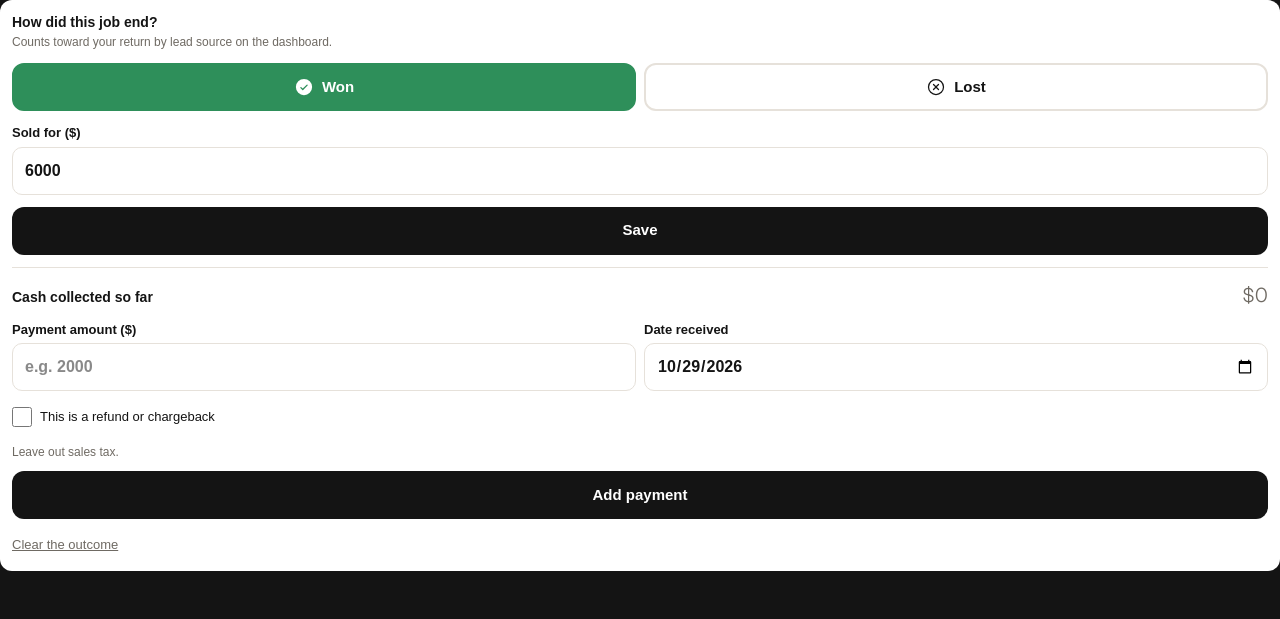
Test: JobOutcomePanel › says plainly when the server refused it
Type "100" into the field labelled "Payment amount ($)" at (324, 367), box x1=12 y1=343 x2=636 y2=391
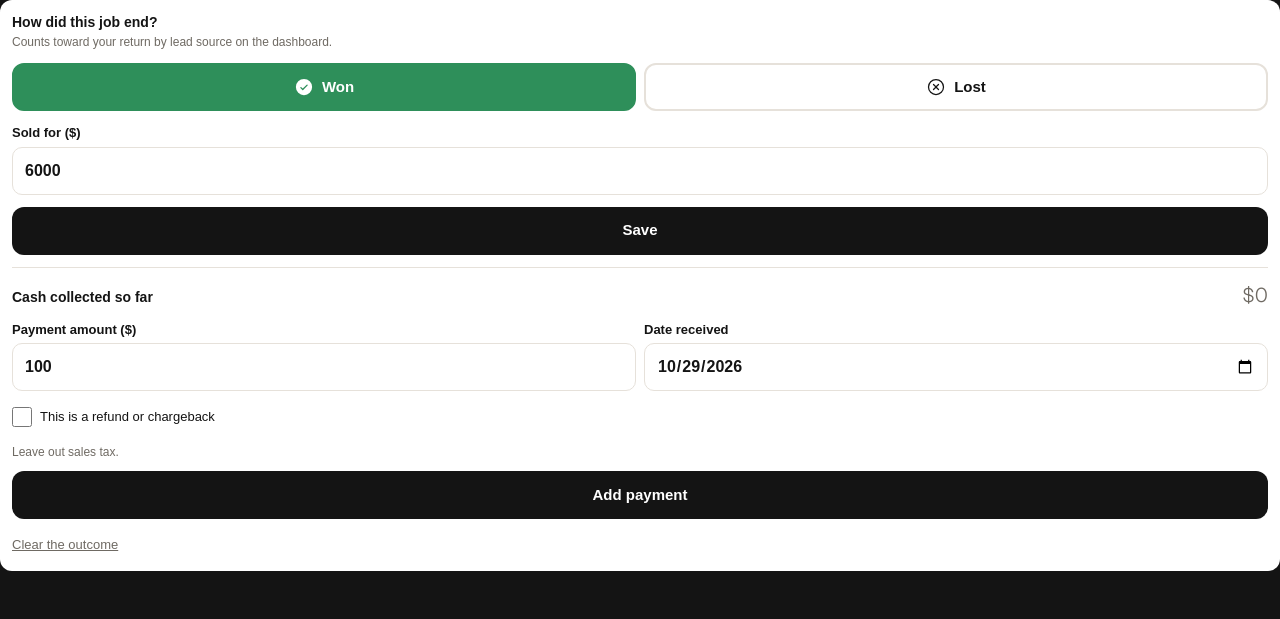
Click the button "Add payment" at (640, 495), box x1=12 y1=471 x2=1268 y2=519
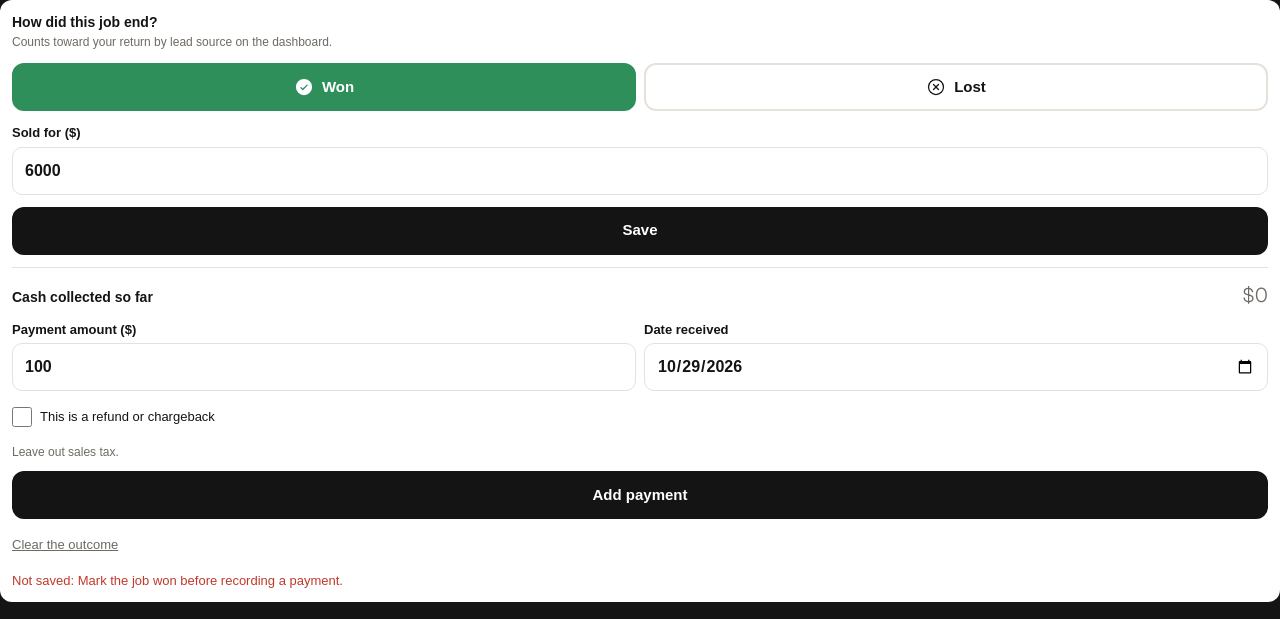
Result: the message reads "Not saved: Mark the job won before recording a payment." at x1=12 y1=572 x2=343 y2=588
